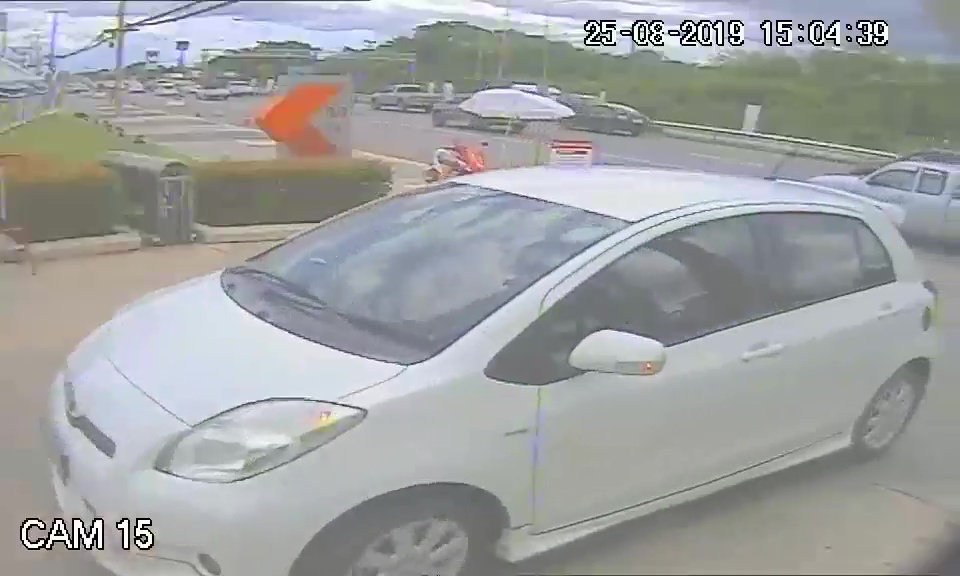sedan: (46, 166, 933, 557)
